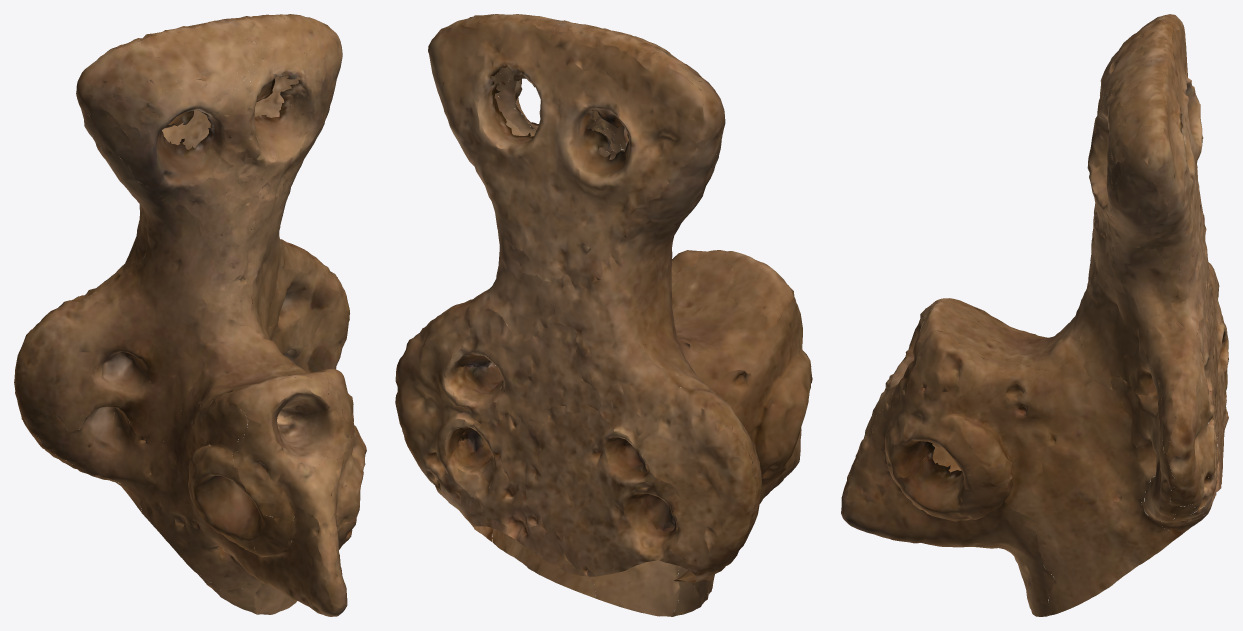
The model's file is weibliches_idol_mit_violinformigem_kopfputz-detail1.glb.
3 renders of one model, left to right at view 1: azimuth 30°, elevation 25°; view 2: azimuth 150°, elevation 25°; view 3: azimuth 270°, elevation 25°, orthographic. The views are drawn at different scales.
Visible parts, largest first — view 1: Sculpture; view 2: Sculpture; view 3: Sculpture.
Boxes of the visible parts, <box> form: Sculpture: <box>14,14,366,616</box>; Sculpture: <box>395,14,812,616</box>; Sculpture: <box>841,14,1228,616</box>.
Bounding box in the file's own units: 0.3912 × 0.6419 × 0.4046.
1 material, 1 textured.
